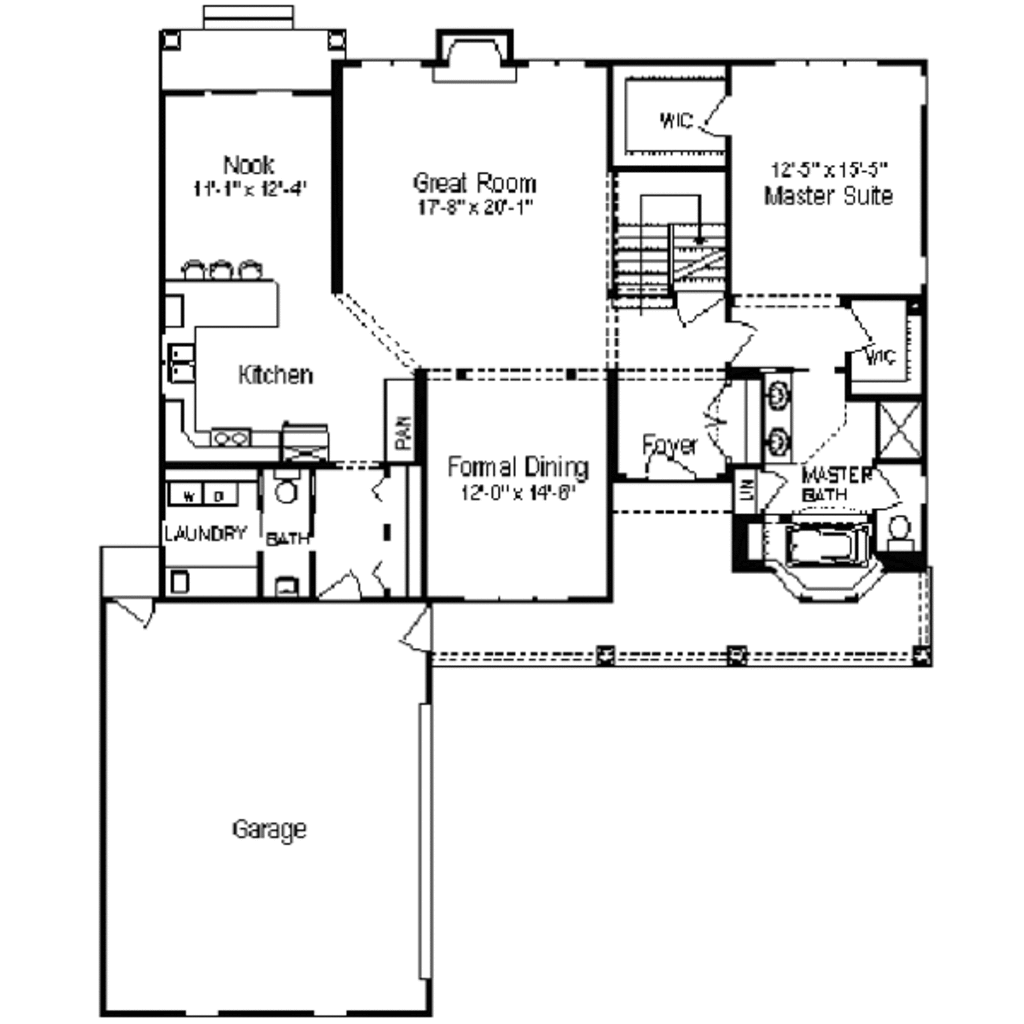door: (697, 383, 738, 464), (392, 605, 443, 656), (633, 447, 700, 481), (104, 593, 158, 629), (316, 566, 365, 603), (699, 93, 734, 144)
kitchen_bar: (163, 256, 286, 335)
large_sink: (270, 463, 310, 511), (880, 510, 916, 554)
small_sink: (759, 369, 797, 464)
stairs: (617, 170, 735, 323)
tub: (780, 523, 867, 570)
